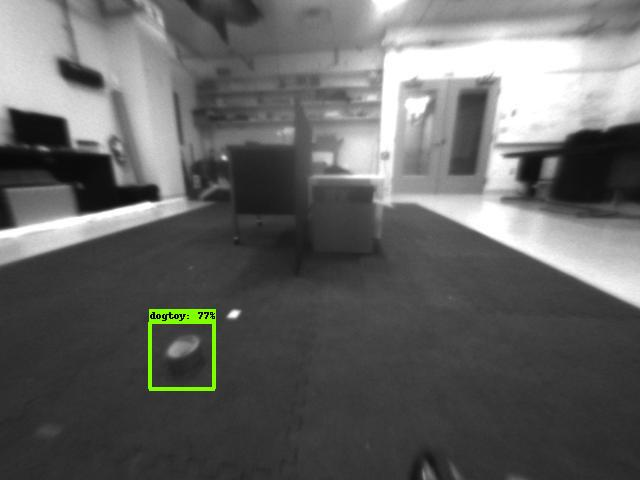dogtoy: (144, 328, 218, 381)
